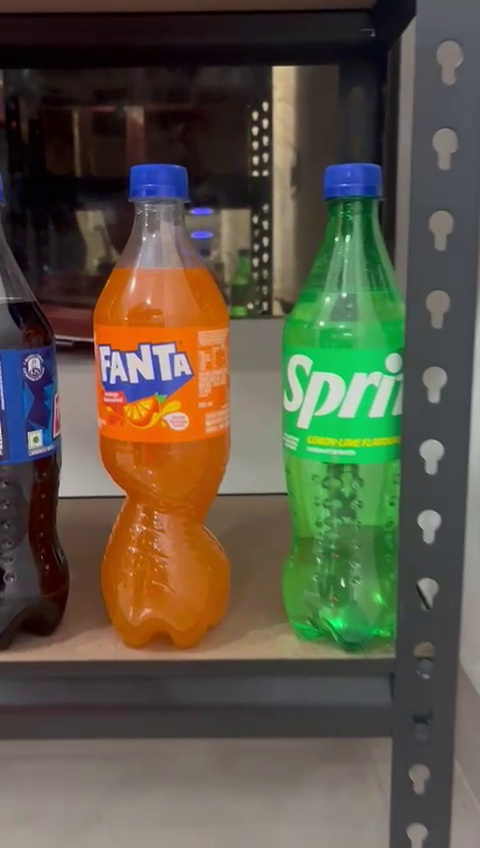Fanta: (79, 160, 259, 654)
Sprit: (269, 155, 424, 648)
